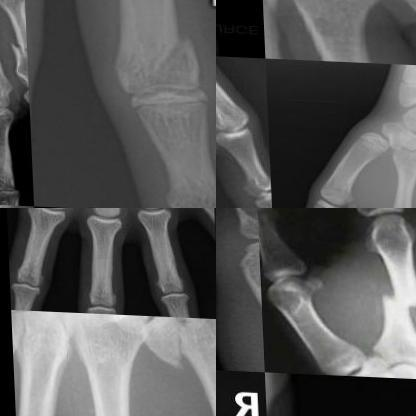fracture: (109, 16, 205, 99), (138, 315, 197, 372), (373, 266, 415, 329), (6, 31, 26, 73)
